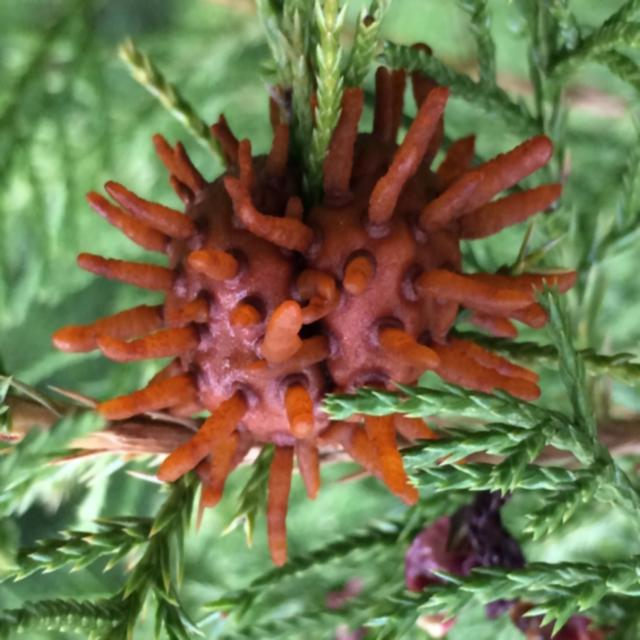Gymnosporangium_Rusts: (49, 54, 578, 567)
